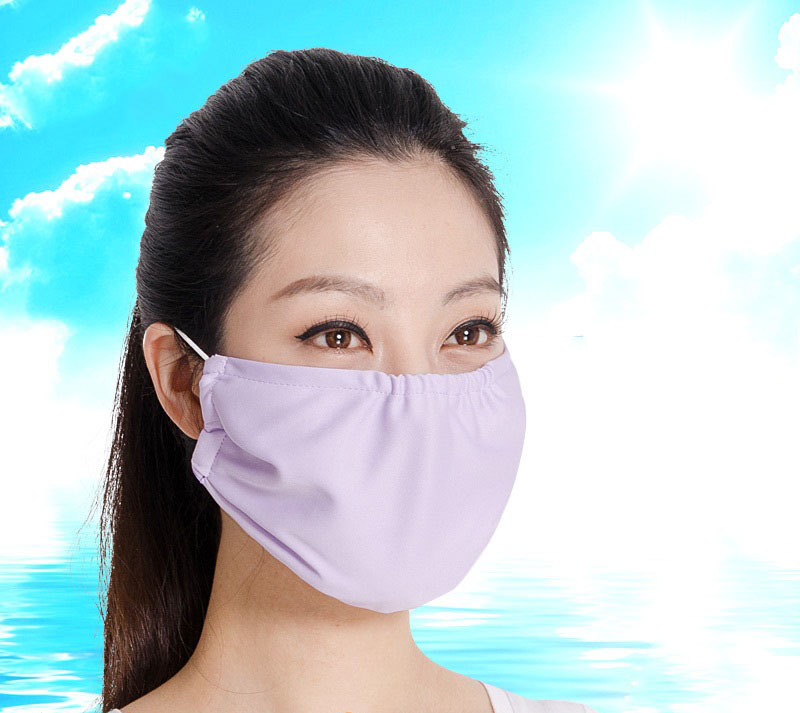face_mask: (208, 161, 519, 611)
